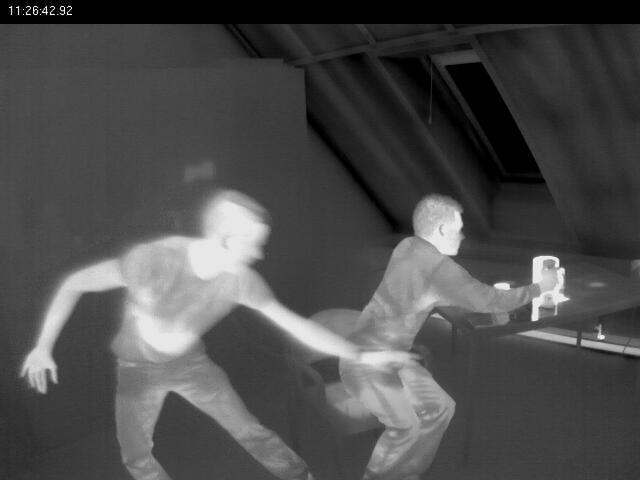person: (100, 170, 290, 480), (334, 189, 499, 480)
